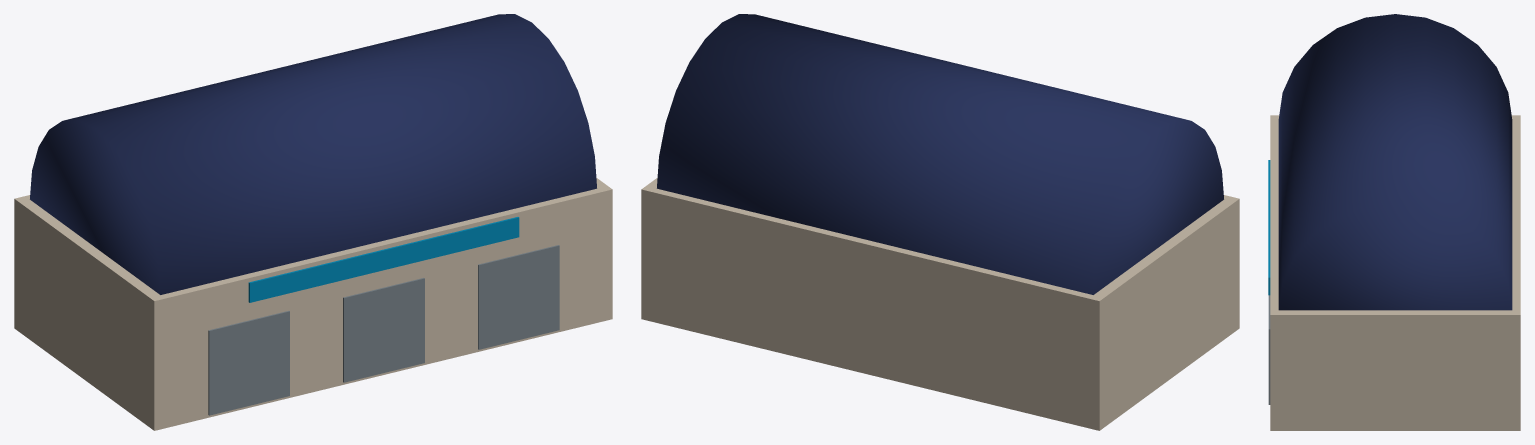
Rendered from warehouse.glb.
The picture shows the model from 3 angles, left to right: view 1: azimuth 30°, elevation 25°; view 2: azimuth 150°, elevation 25°; view 3: azimuth 270°, elevation 25°; orthographic projection. The views are drawn at different scales.
Parts seen in each view (by area): view 1: warehouse; view 2: warehouse; view 3: warehouse.
Part boxes in pixels (bbox=[...]): warehouse: bbox=[14, 14, 612, 430]; warehouse: bbox=[641, 14, 1239, 430]; warehouse: bbox=[1268, 14, 1520, 430].
Size of the model in its own units: 1.7 by 0.88 by 0.907.
